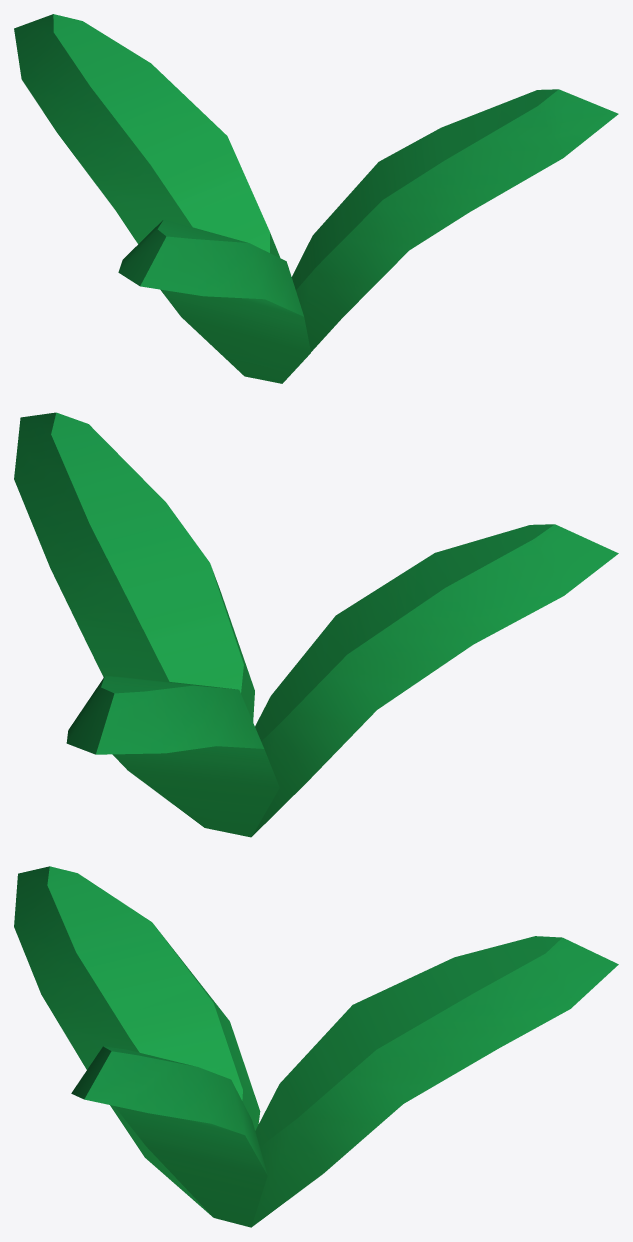
File: Grass_A_1.glb
3 renders of one model, top to bottom at view 1: azimuth 30°, elevation 25°; view 2: azimuth 150°, elevation 25°; view 3: azimuth 270°, elevation 25°, orthographic. The views are drawn at different scales.
Visible parts, largest first — view 1: Grass_A_1; view 2: Grass_A_1; view 3: Grass_A_1.
Part boxes in pixels (bbox=[...]): Grass_A_1: bbox=[14, 14, 618, 383]; Grass_A_1: bbox=[14, 412, 618, 837]; Grass_A_1: bbox=[14, 866, 618, 1227].
Size of the model in its own units: 0.3584 by 0.1853 by 0.3678.
1 material, 1 textured.
